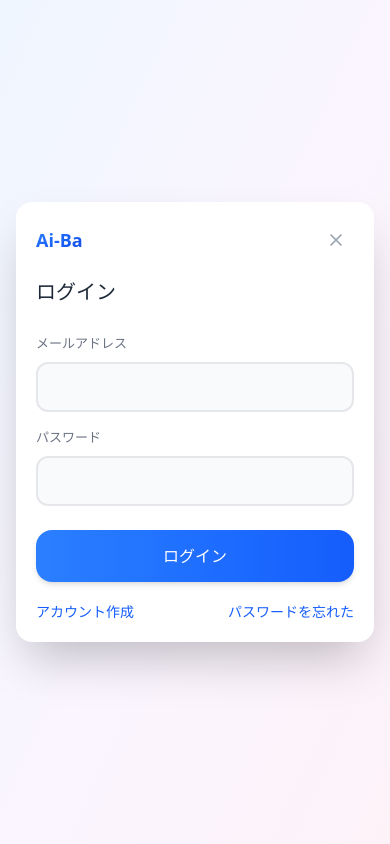
Test: AuthModal › ログインフォーム › CONFIRM_SIGN_UP が返された場合、確認コードフォームに遷移
Type "test@example.com" into the field with test id "login-email" at (195, 387), box [36,362,354,412]
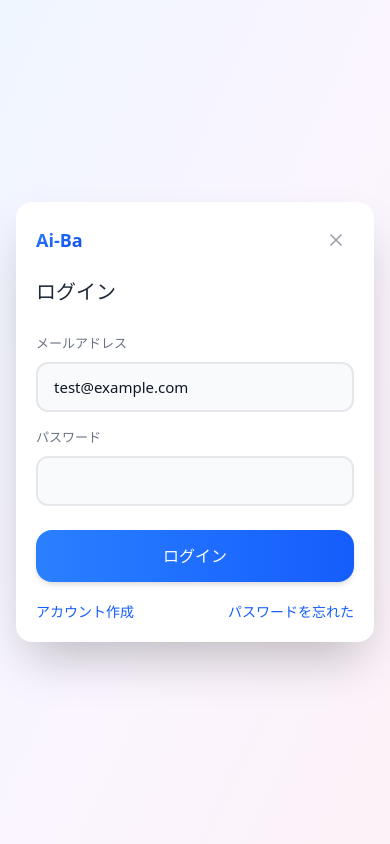
Type "password123" into the password field with test id "login-password" at (195, 481), box [36,456,354,506]
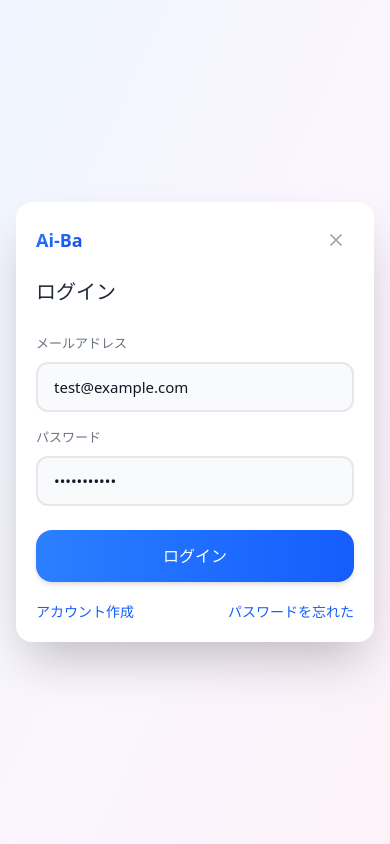
Click the button with test id "login-submit" at (195, 556), box [36,530,354,582]
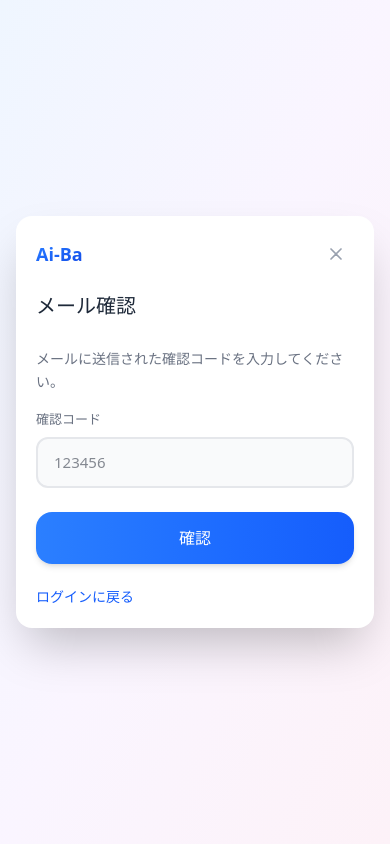
Result: the form with test id "confirm-form" is shown at [36,348,354,608]
